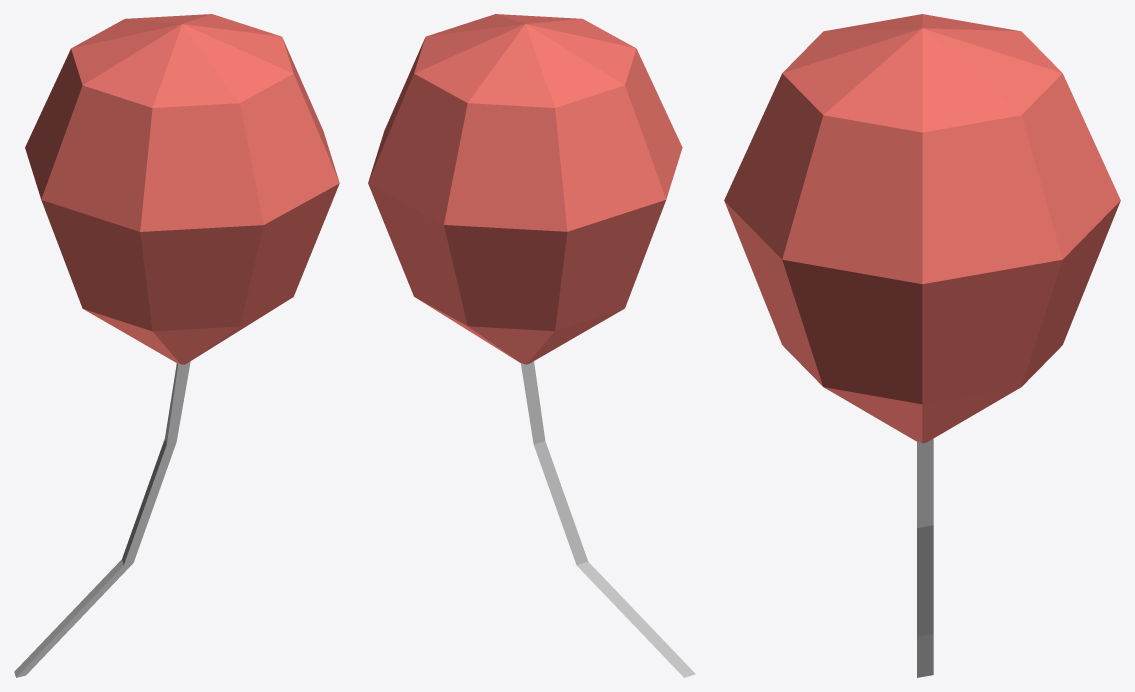
File: baloonred.fbx
3 views of the same model, side by side, from view 1: azimuth 30°, elevation 25°; view 2: azimuth 150°, elevation 25°; view 3: azimuth 270°, elevation 25° (orthographic). The views are drawn at different scales.
Parts seen in each view (by area): view 1: 球, 円柱; view 2: 球, 円柱; view 3: 球, 円柱.
Boxes of the visible parts, bbox=[...] form: 球: bbox=[25, 14, 339, 364]; 円柱: bbox=[14, 361, 190, 677]; 球: bbox=[368, 14, 682, 364]; 円柱: bbox=[520, 361, 695, 677]; 球: bbox=[724, 14, 1120, 443]; 円柱: bbox=[917, 438, 933, 677].
Bounding box in the file's own units: 219 × 414 × 200.
